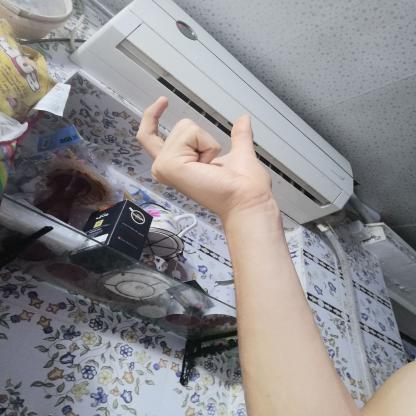NOON: (121, 88, 291, 228)
